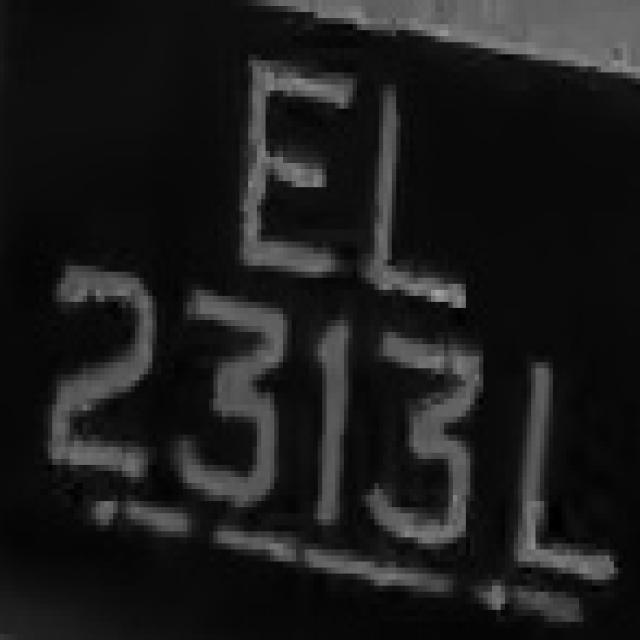1: (300, 284, 370, 568)
2: (44, 223, 165, 495)
3: (170, 248, 309, 538), (374, 296, 488, 586)
E: (222, 42, 344, 314)
L: (509, 338, 618, 622), (370, 73, 470, 332)
